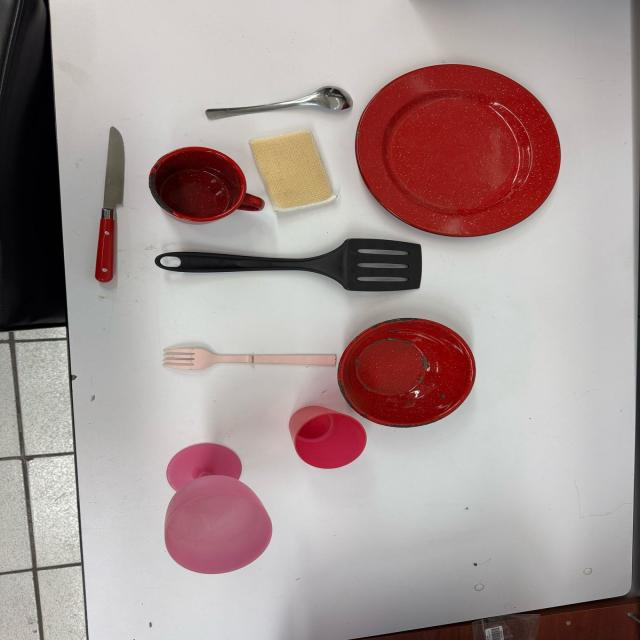cup: (148, 147, 267, 222)
fork: (161, 346, 340, 370)
glass: (288, 404, 368, 470)
knife: (94, 124, 126, 284)
plate: (354, 63, 559, 238)
spatula: (158, 239, 428, 290)
sponge: (248, 128, 340, 214)
spoon: (205, 85, 353, 121)
tazon: (336, 319, 476, 426)
wineglass: (160, 442, 271, 572)
